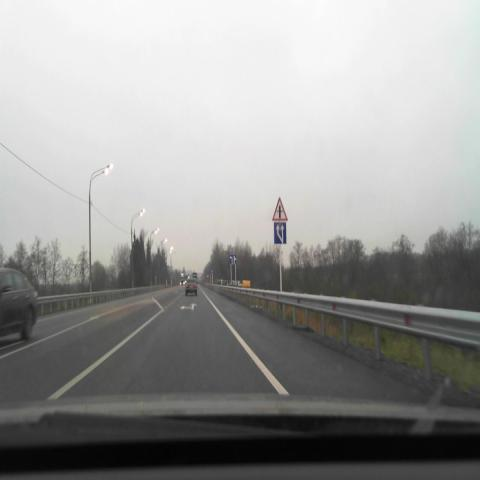2_3: (272, 196, 288, 221)
5_15_3: (274, 222, 286, 244)
